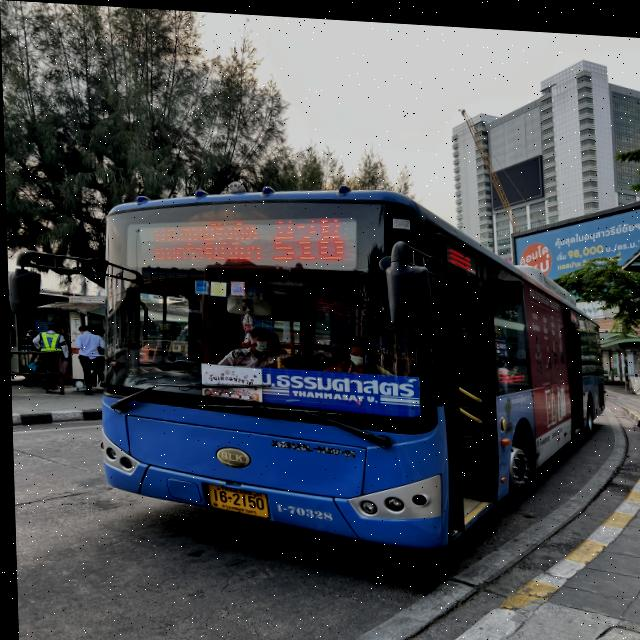BMTA-bus: (92, 173, 606, 557)
Bus-Line-Number: (263, 207, 354, 268)
Destination-Sign-Normal: (255, 365, 418, 415)
